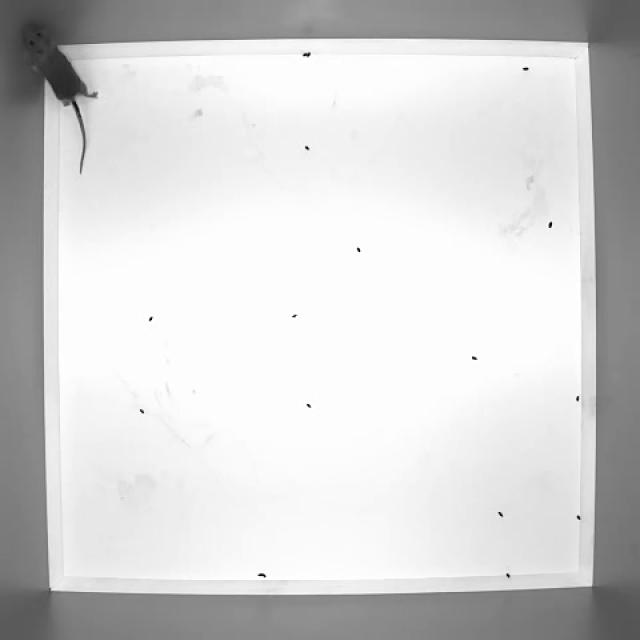rat: (18, 23, 106, 175)
